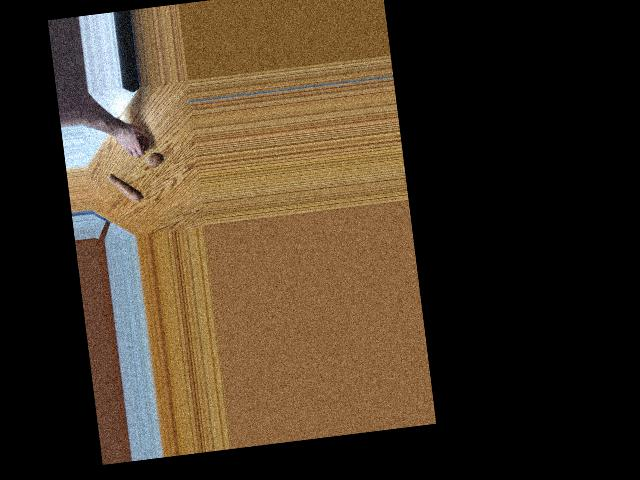onion: (132, 136, 148, 152)
